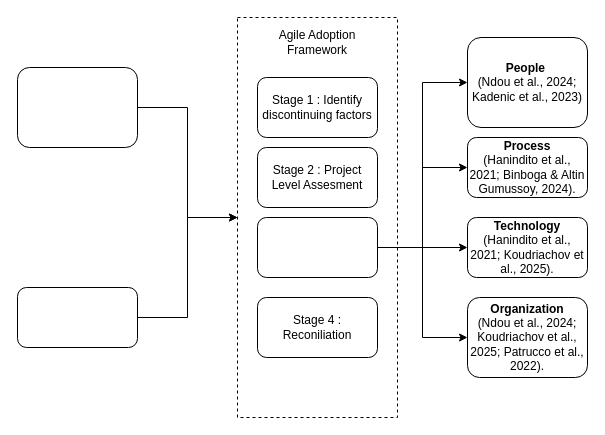
Some shapes in this 605 by 435 pixel diagram are drawn without their labels. Here are the shapes that lost their labels. From the top down, the centre of each, then its label:
the point at 77,107: Agile Software Development (Koudriachov et al., 2025; Patrucco et al., 2022)
the point at 317,247: Stage 3 : Organizational Readiness Assesment
the point at 77,317: Scrum Framework (Kadenic et al., 2023; Sassa et al., 2023)
